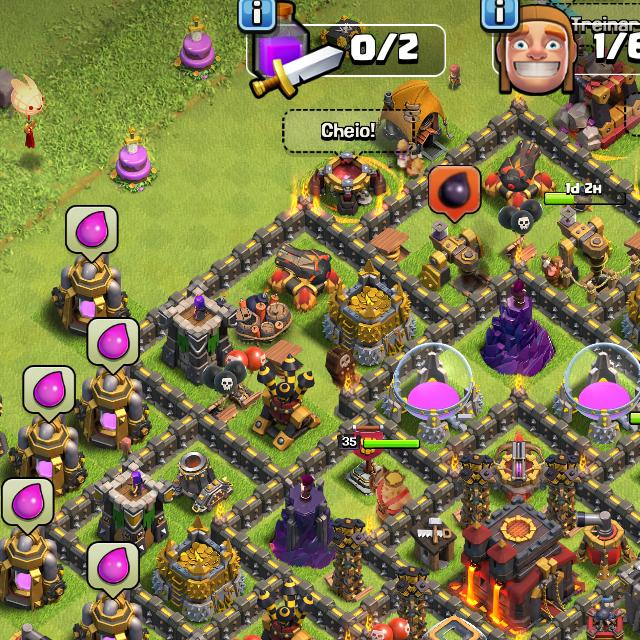Elixir: (86, 317, 142, 377), (64, 204, 119, 264), (85, 541, 141, 599), (22, 365, 76, 425), (2, 478, 55, 538)
FullElixirNegro: (428, 164, 482, 222)
